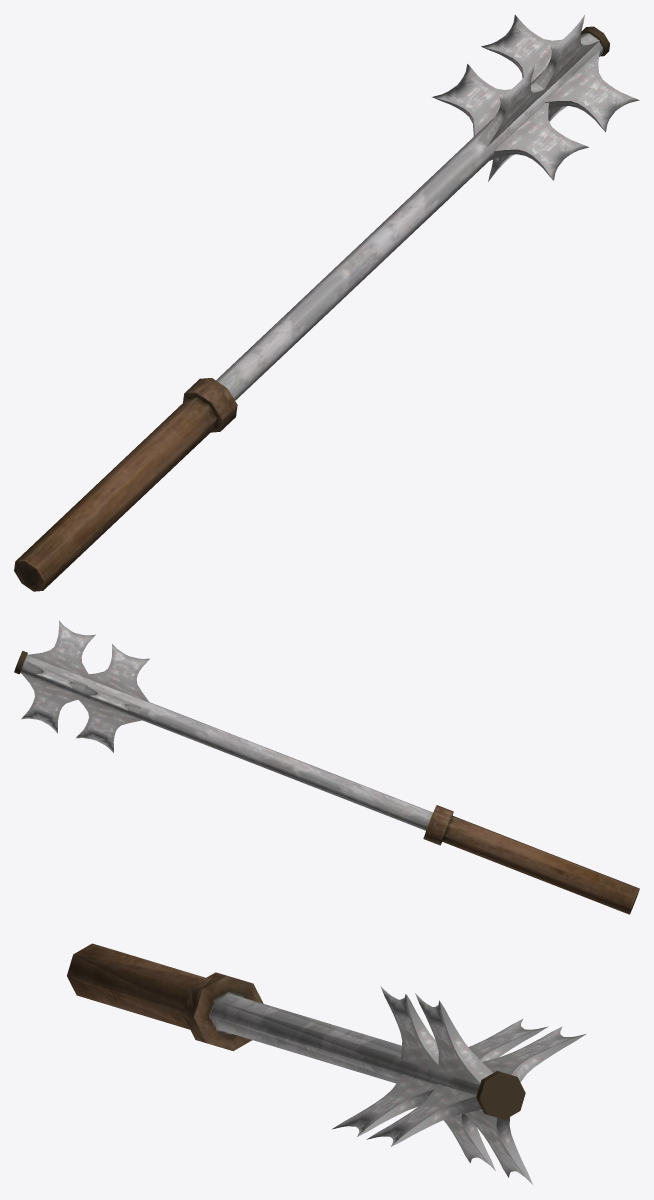
Rendered from weapon-copperweapons.glb.
3 views of the same model, one above another, from view 1: azimuth 30°, elevation 25°; view 2: azimuth 150°, elevation 25°; view 3: azimuth 270°, elevation 25° (orthographic). The views are drawn at different scales.
Size of the model in its own units: 1.56 by 0.6745 by 0.6692.
1 material, 1 textured.
